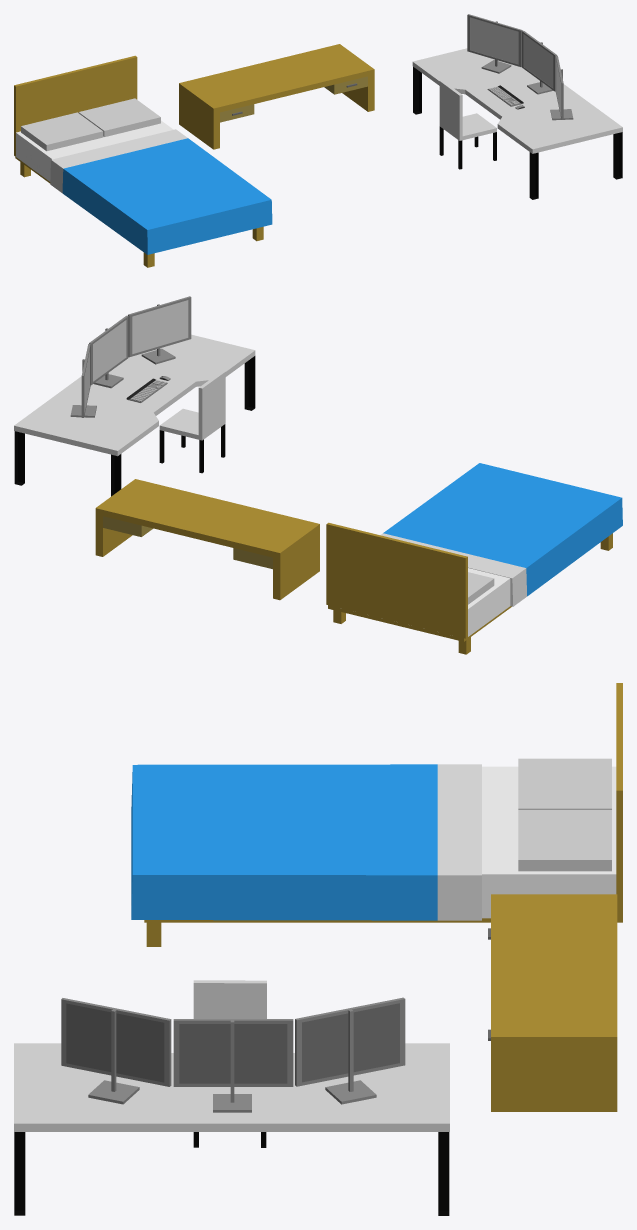
File: FullRoomExample.fbx
The picture shows the model from 3 angles, top to bottom: view 1: azimuth 30°, elevation 25°; view 2: azimuth 150°, elevation 25°; view 3: azimuth 270°, elevation 25°; orthographic projection. The views are drawn at different scales.
Parts seen in each view (by area): view 1: Cube, ComputerDesk, Cube.001, Monitor, Chair, Monitor.001, Monitor.002; view 2: Cube, ComputerDesk, Cube.001, Monitor.002, Chair, Monitor.001, Monitor; view 3: Cube, Cube.001, ComputerDesk, Monitor.001, Monitor.002, Monitor, Chair.
Boxes of the visible parts, left/top/right/bottom form: Cube: left=14, top=55, right=272, bottom=267; ComputerDesk: left=412, top=48, right=622, bottom=199; Cube.001: left=179, top=44, right=374, bottom=149; Monitor: left=467, top=14, right=522, bottom=73; Chair: left=439, top=80, right=496, bottom=169; Monitor.001: left=522, top=30, right=556, bottom=94; Monitor.002: left=550, top=55, right=573, bottom=120; Cube: left=326, top=463, right=622, bottom=654; ComputerDesk: left=14, top=334, right=255, bottom=496; Cube.001: left=95, top=479, right=319, bottom=600; Monitor.002: left=128, top=296, right=191, bottom=364; Chair: left=159, top=371, right=225, bottom=473; Monitor.001: left=89, top=315, right=128, bottom=388; Monitor: left=70, top=344, right=96, bottom=417; Cube: left=131, top=683, right=622, bottom=946; Cube.001: left=488, top=894, right=617, bottom=1111; ComputerDesk: left=14, top=1043, right=449, bottom=1215; Monitor.001: left=173, top=1019, right=293, bottom=1112; Monitor.002: left=61, top=998, right=171, bottom=1104; Monitor: left=295, top=997, right=405, bottom=1104; Chair: left=193, top=980, right=266, bottom=1147.
Size of the model in its own units: 3823 by 873 by 2500.
